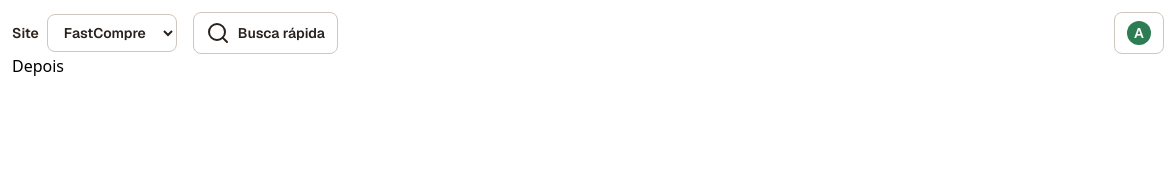
Scenario: Topbar › Tab para fora do menu fecha sem deixar foco inconsistente
Step 1. Click the button named "Menu do usuário" → {"x": 1139, "y": 33}, box [1114, 12, 1164, 54]
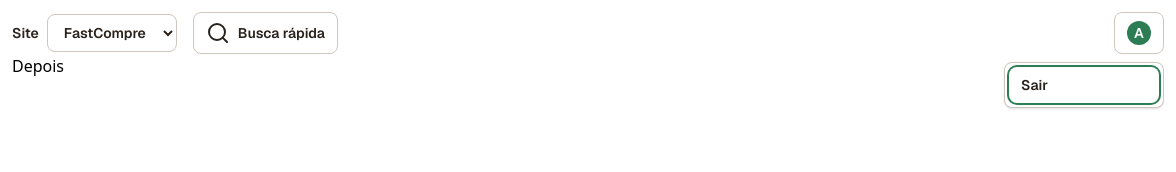
Step 2. Press Tab
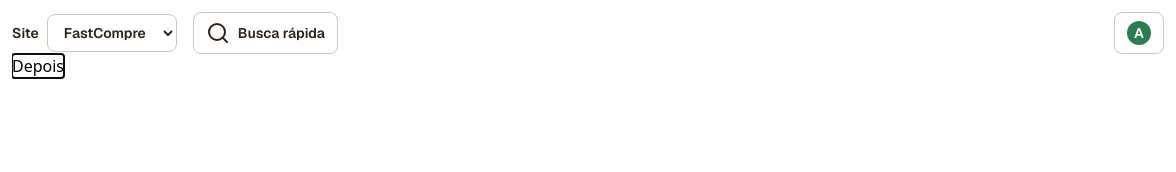
Expected: the menu is gone
